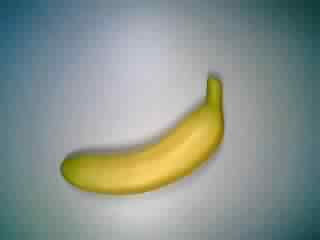banana: (57, 71, 233, 204)
